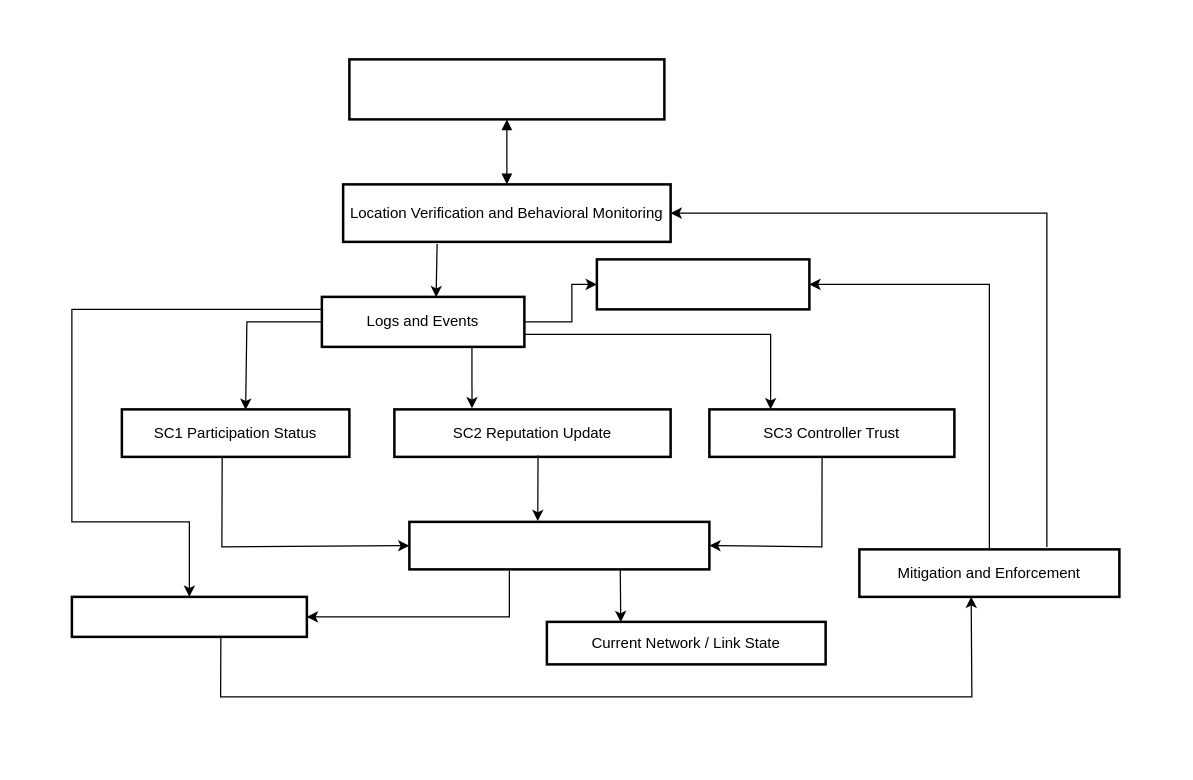
Some shapes in this 1193 by 780 pixel diagram are drawn without their labels. Each missing label, with the centre of its shape:
AI Analysis and Report: pixel 189 616
Registration and Authentication Module: pixel 506 89
Shared Trusted State / Ledger: pixel 559 545
Trust Update Core: pixel 702 284
